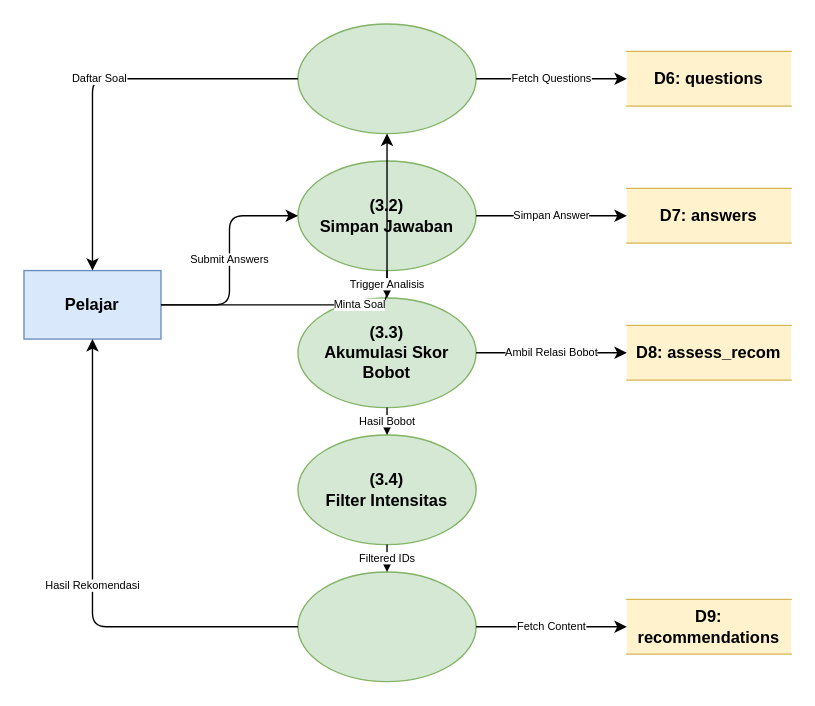
Image size: 815x706. Some labels were removed from this diagram. Here are the shapes that lost their labels. From the top down, the box of each, then its label:
(297, 23, 476, 134): (3.1) Request & Ambil Soal
(297, 571, 476, 682): (3.5) Ambil Detil Konten
